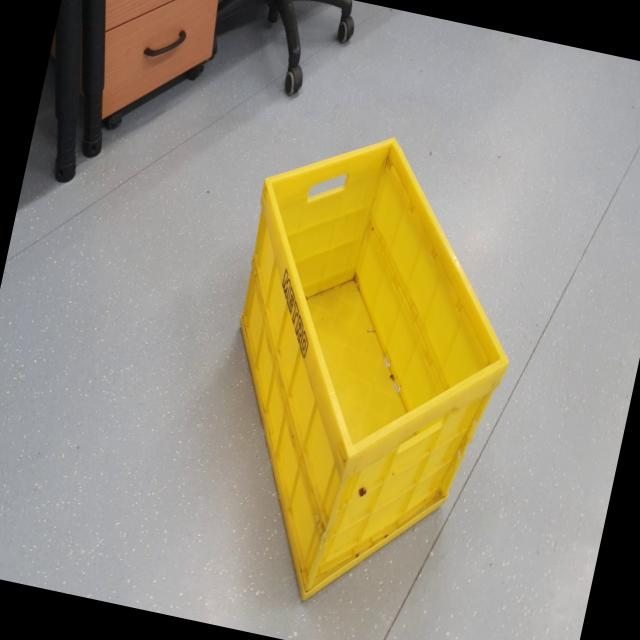box: (174, 90, 559, 639)
